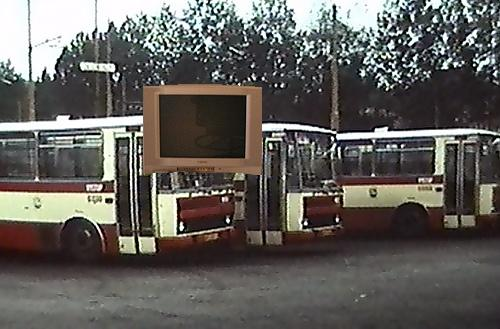tampered: (144, 85, 262, 175)
